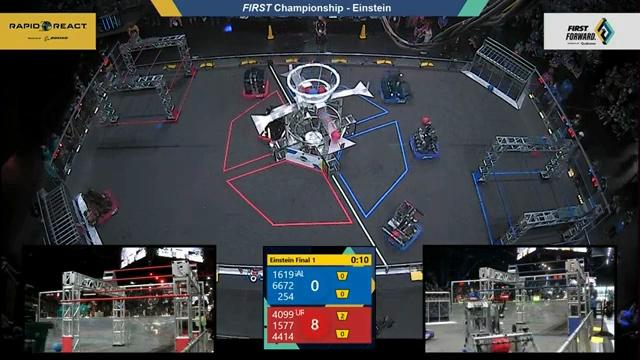robot: (381, 199, 428, 254), (78, 184, 120, 228), (407, 115, 443, 164), (375, 66, 415, 105), (254, 104, 290, 146), (239, 64, 271, 99)
